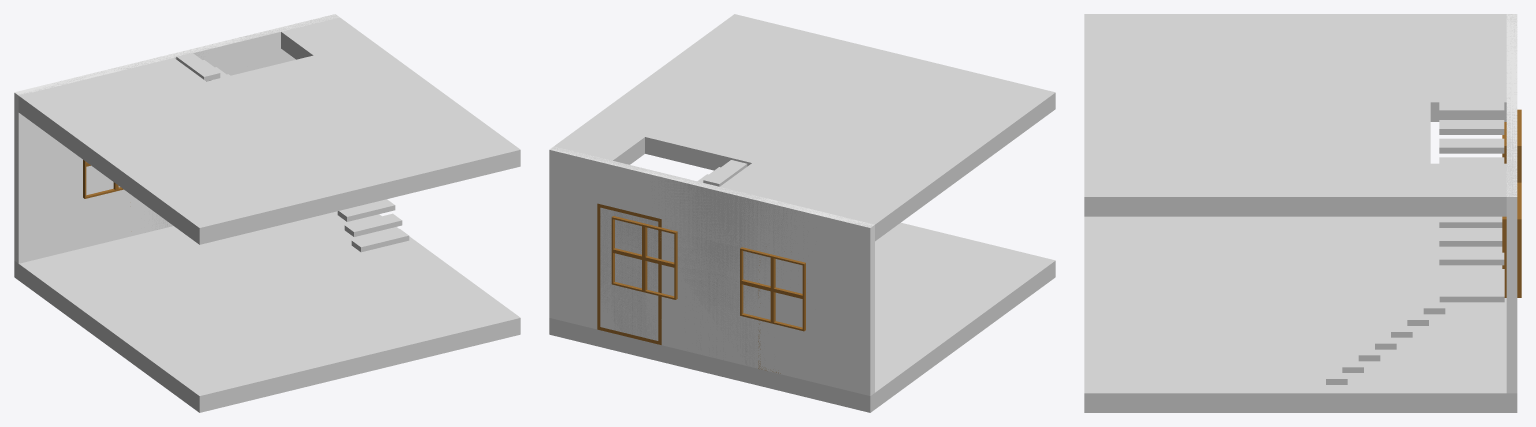
File: testRoom1.fbx
3 views of the same model, side by side, from view 1: azimuth 30°, elevation 25°; view 2: azimuth 150°, elevation 25°; view 3: azimuth 270°, elevation 25° (orthographic). The views are drawn at different scales.
Parts seen in each view (by area): view 1: holeFloor, floor, RightDoor, rightOneWindow, Stairs1, twoWindow, wall; view 2: holeFloor, floor, rightOneWindow, RightDoor, twoWindow, wall, leftDoor, leftOneWindow, Stairs1; view 3: holeFloor, floor, Stairs1, RightDoor, wall, rightOneWindow, twoWindow, leftDoor.
Boxes of the visible parts, x1=… form: holeFloor: x1=18, y1=17, x2=520, y2=244; floor: x1=14, y1=211, x2=520, y2=412; RightDoor: x1=14, y1=14, x2=337, y2=263; rightOneWindow: x1=14, y1=17, x2=338, y2=263; Stairs1: x1=176, y1=52, x2=409, y2=252; twoWindow: x1=53, y1=14, x2=337, y2=232; wall: x1=52, y1=14, x2=339, y2=229; holeFloor: x1=554, y1=14, x2=1055, y2=241; floor: x1=549, y1=222, x2=1055, y2=412; rightOneWindow: x1=609, y1=162, x2=874, y2=395; RightDoor: x1=549, y1=149, x2=873, y2=353; twoWindow: x1=550, y1=146, x2=871, y2=378; wall: x1=550, y1=146, x2=873, y2=368; leftDoor: x1=551, y1=147, x2=869, y2=373; leftOneWindow: x1=740, y1=247, x2=805, y2=331; Stairs1: x1=698, y1=160, x2=747, y2=186; holeFloor: x1=1084, y1=14, x2=1516, y2=216; floor: x1=1084, y1=216, x2=1517, y2=412; Stairs1: x1=1326, y1=101, x2=1504, y2=384; RightDoor: x1=1506, y1=14, x2=1517, y2=393; wall: x1=1506, y1=14, x2=1517, y2=196; rightOneWindow: x1=1502, y1=14, x2=1521, y2=297; twoWindow: x1=1502, y1=14, x2=1517, y2=297; leftDoor: x1=1506, y1=15, x2=1517, y2=195.
Bounding box in the file's own units: 2000 × 1110 × 2020.
